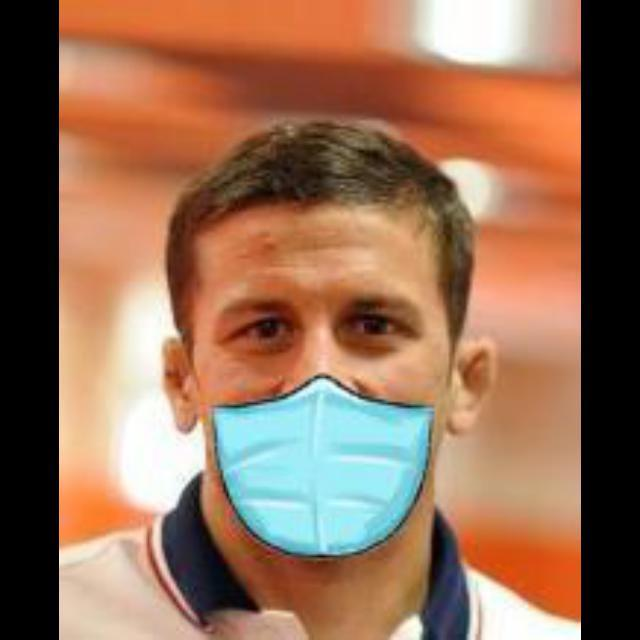suspicion: (99, 144, 542, 556)
